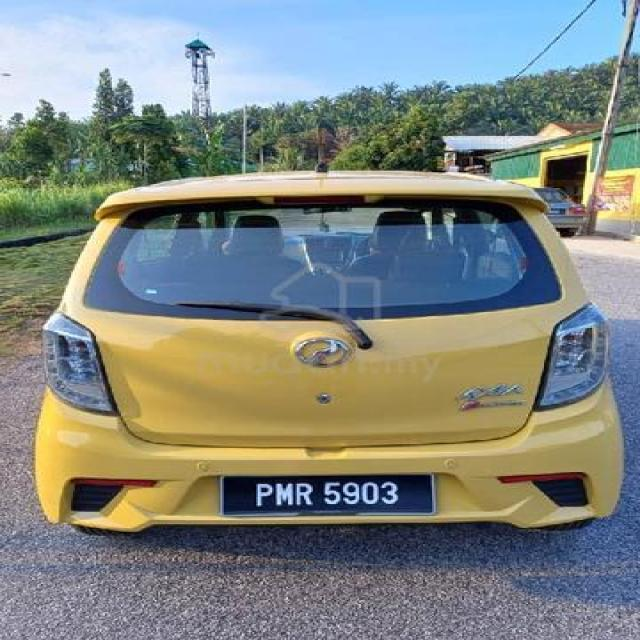PeroduaAxia: (32, 167, 625, 534)
